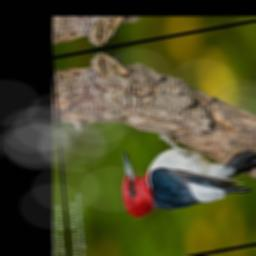Woodpecker: (119, 108, 256, 226)
